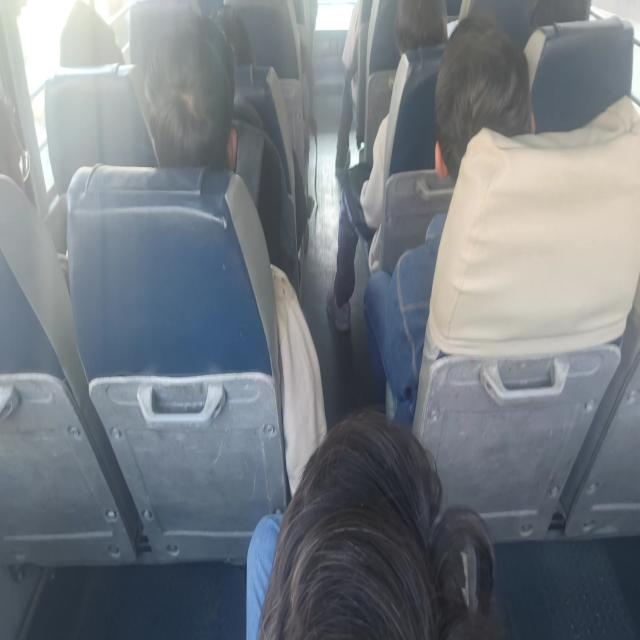person: (258, 412, 496, 640), (428, 43, 526, 193), (142, 34, 231, 175), (54, 0, 124, 71), (197, 0, 251, 65), (0, 88, 33, 194), (396, 0, 447, 59), (529, 0, 596, 41)
